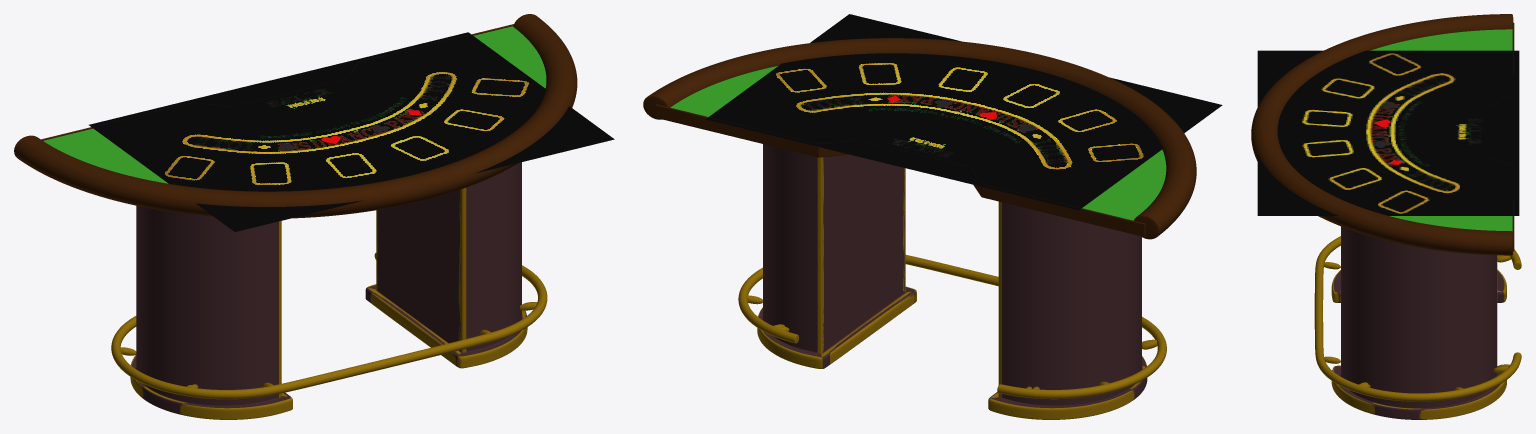
The model's file is blackjackTable.fbx.
3 views of the same model, side by side, from view 1: azimuth 30°, elevation 25°; view 2: azimuth 150°, elevation 25°; view 3: azimuth 270°, elevation 25° (orthographic). The views are drawn at different scales.
Parts seen in each view (by area): view 1: Table top, Table legs, arm rest (for players), metal etching 1; view 2: Table top, Table legs, arm rest (for players), metal etching 1, Rubber pad strip; view 3: Table top, Table legs, arm rest (for players), metal etching 1.
Part boxes in pixels (x1,y1,x2,y2): Table top: (43, 26, 614, 231); Table legs: (132, 162, 526, 415); arm rest (for players): (14, 14, 577, 218); metal etching 1: (111, 187, 547, 419); Table top: (670, 14, 1222, 220); Table legs: (759, 144, 1147, 408); arm rest (for players): (643, 38, 1196, 239); metal etching 1: (738, 157, 1166, 419); Rubber pad strip: (655, 104, 1145, 236); Table top: (1257, 29, 1519, 231); Table legs: (1333, 226, 1504, 419); arm rest (for players): (1251, 14, 1513, 255); metal etching 1: (1314, 236, 1521, 419).
Bounding box in the file's own units: 237 × 104 × 118.
6 materials, 2 textured.
